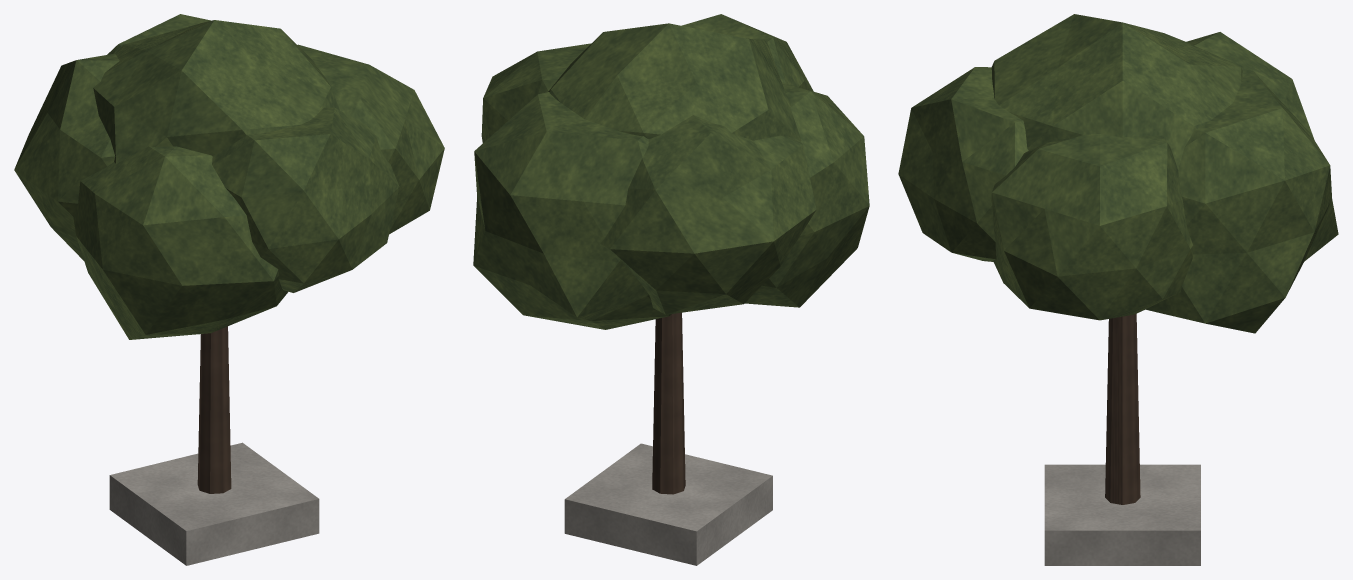
File: Prop_Tree.fbx
The picture shows the model from 3 angles, left to right: view 1: azimuth 30°, elevation 25°; view 2: azimuth 150°, elevation 25°; view 3: azimuth 270°, elevation 25°; orthographic projection. The views are drawn at different scales.
Parts seen in each view (by area): view 1: Prop_Tree; view 2: Prop_Tree; view 3: Prop_Tree.
Part boxes in pixels (x1,y1,x2,y2): Prop_Tree: [14, 14, 444, 565]; Prop_Tree: [473, 14, 869, 565]; Prop_Tree: [898, 14, 1338, 565].
Bounding box in the file's own units: 3.74 × 5.05 × 3.95.
